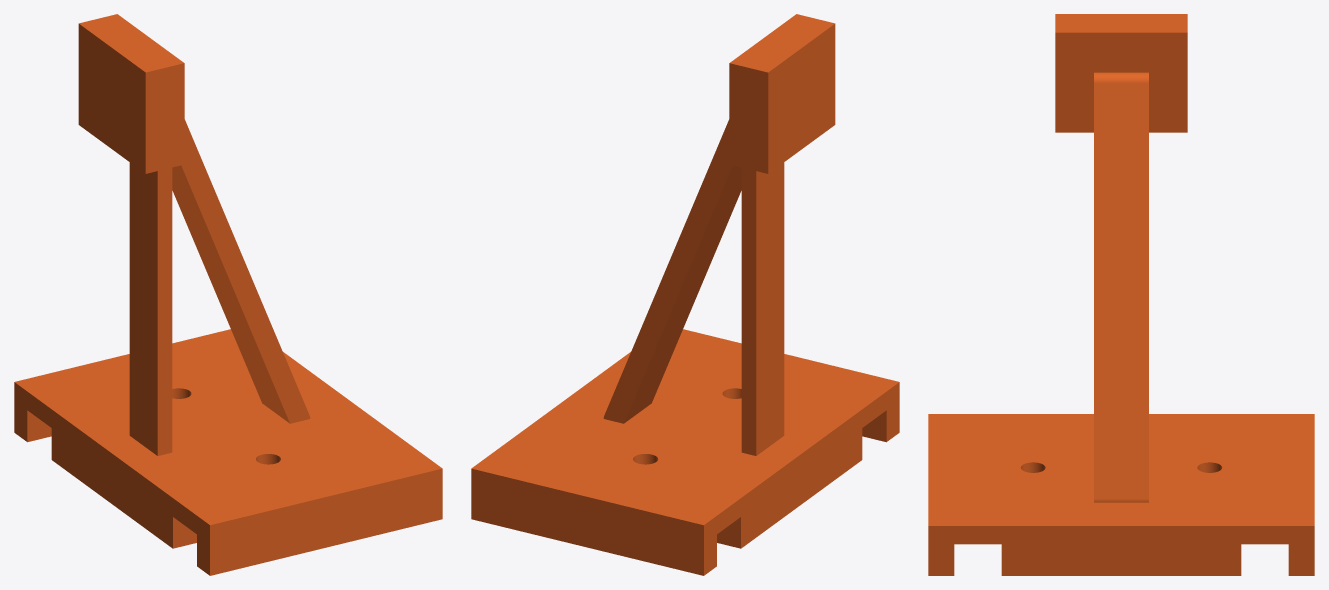
The model's file is 03-right.glb.
3 views of the same model, side by side, from view 1: azimuth 30°, elevation 25°; view 2: azimuth 150°, elevation 25°; view 3: azimuth 270°, elevation 25° (orthographic).
Visible parts, largest first — view 1: right_solid; view 2: right_solid; view 3: right_solid.
Boxes of the visible parts, <box> form: right_solid: <box>14,14,442,575</box>; right_solid: <box>471,14,899,575</box>; right_solid: <box>928,14,1314,575</box>.
Bounding box in the file's own units: 48 × 90 × 70.
